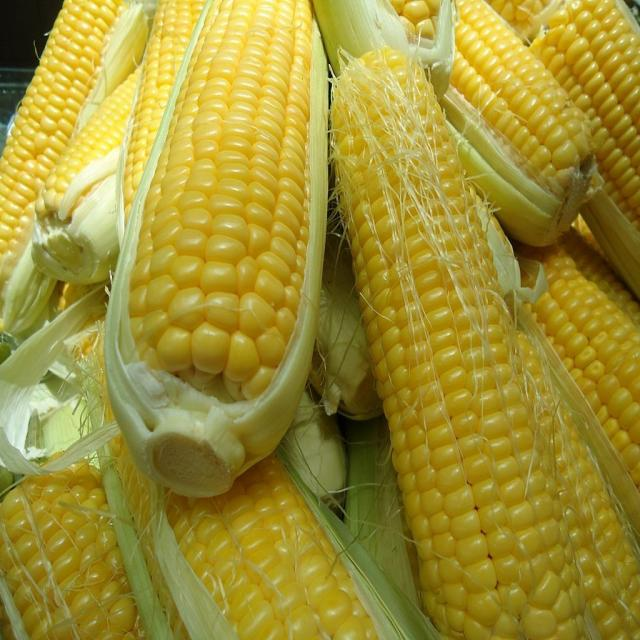corn: (139, 0, 307, 394), (388, 337, 565, 640), (334, 50, 492, 370), (164, 483, 368, 640), (0, 0, 110, 278), (448, 0, 575, 208), (0, 447, 129, 640), (544, 235, 640, 479), (577, 0, 640, 235)
